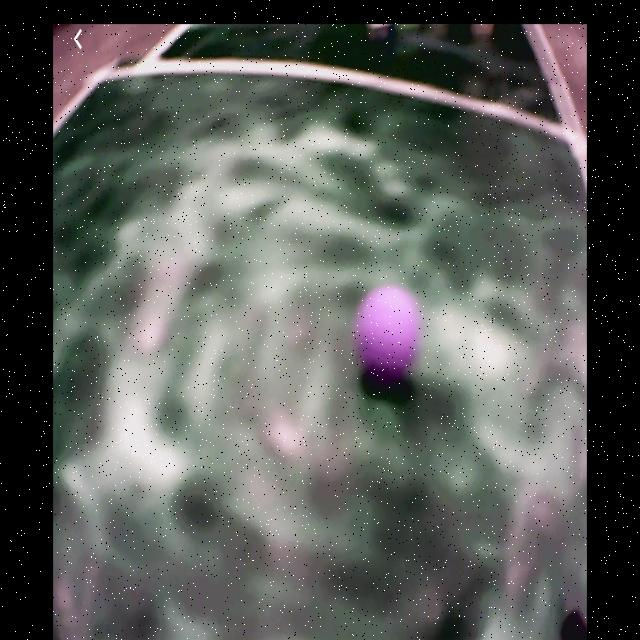ball: (360, 288, 418, 374)
